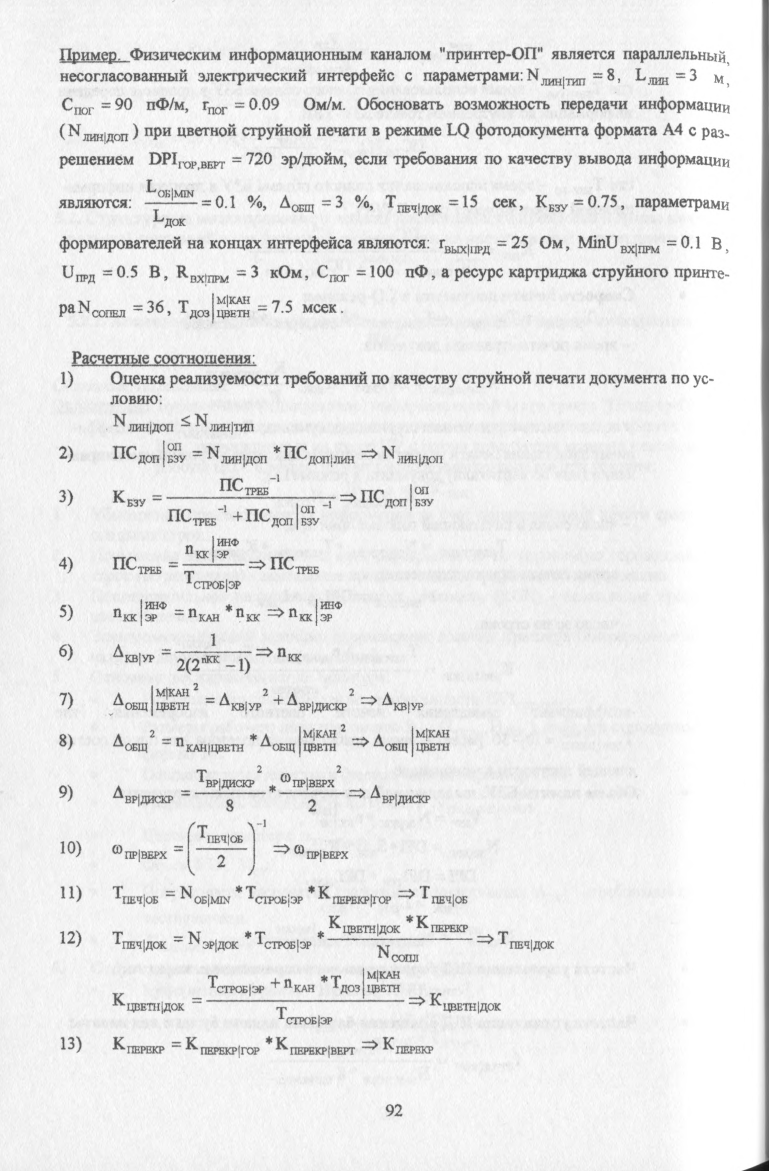K.цветн.док: (110, 988, 185, 1015), (327, 913, 401, 935)
n.кан: (186, 607, 222, 622)
n.кк: (234, 606, 262, 623), (200, 655, 221, 664)
n.кк.инф.эр: (109, 598, 170, 625), (183, 537, 244, 560)
